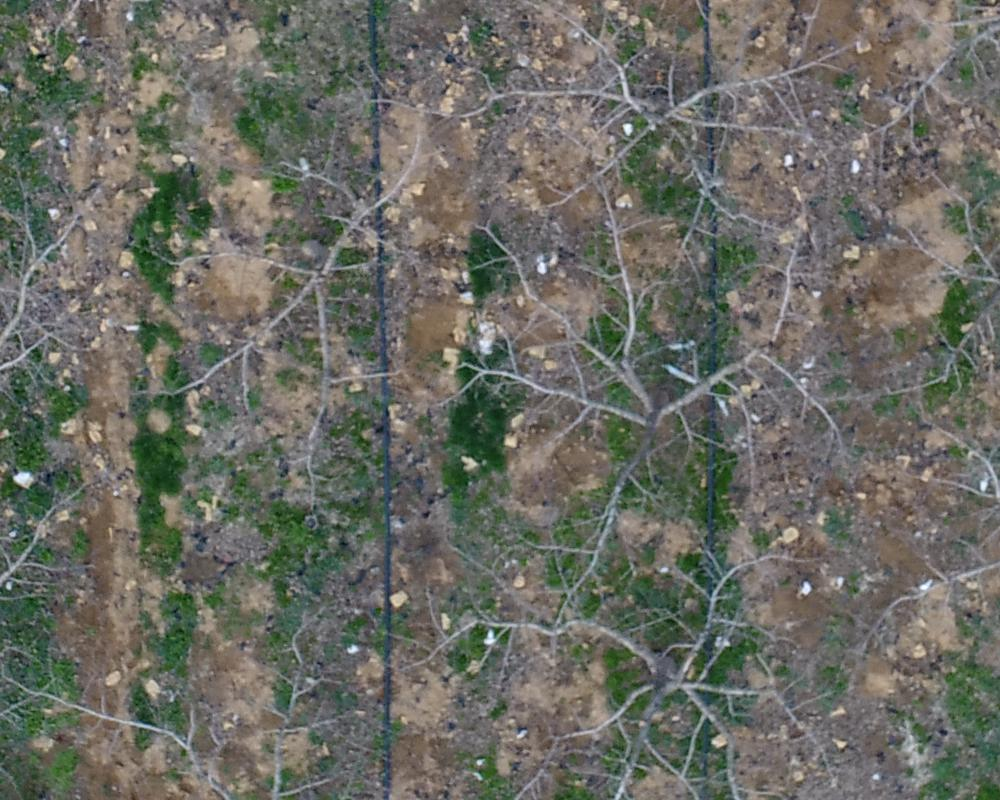apple: (425, 171, 853, 621), (125, 94, 453, 504), (398, 553, 879, 790), (442, 10, 896, 215)
